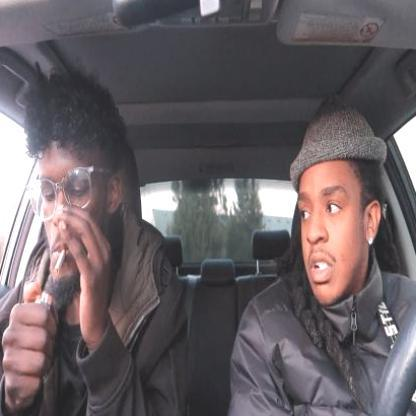cigarette: (53, 244, 69, 280)
person: (15, 71, 183, 415), (234, 110, 415, 416)
